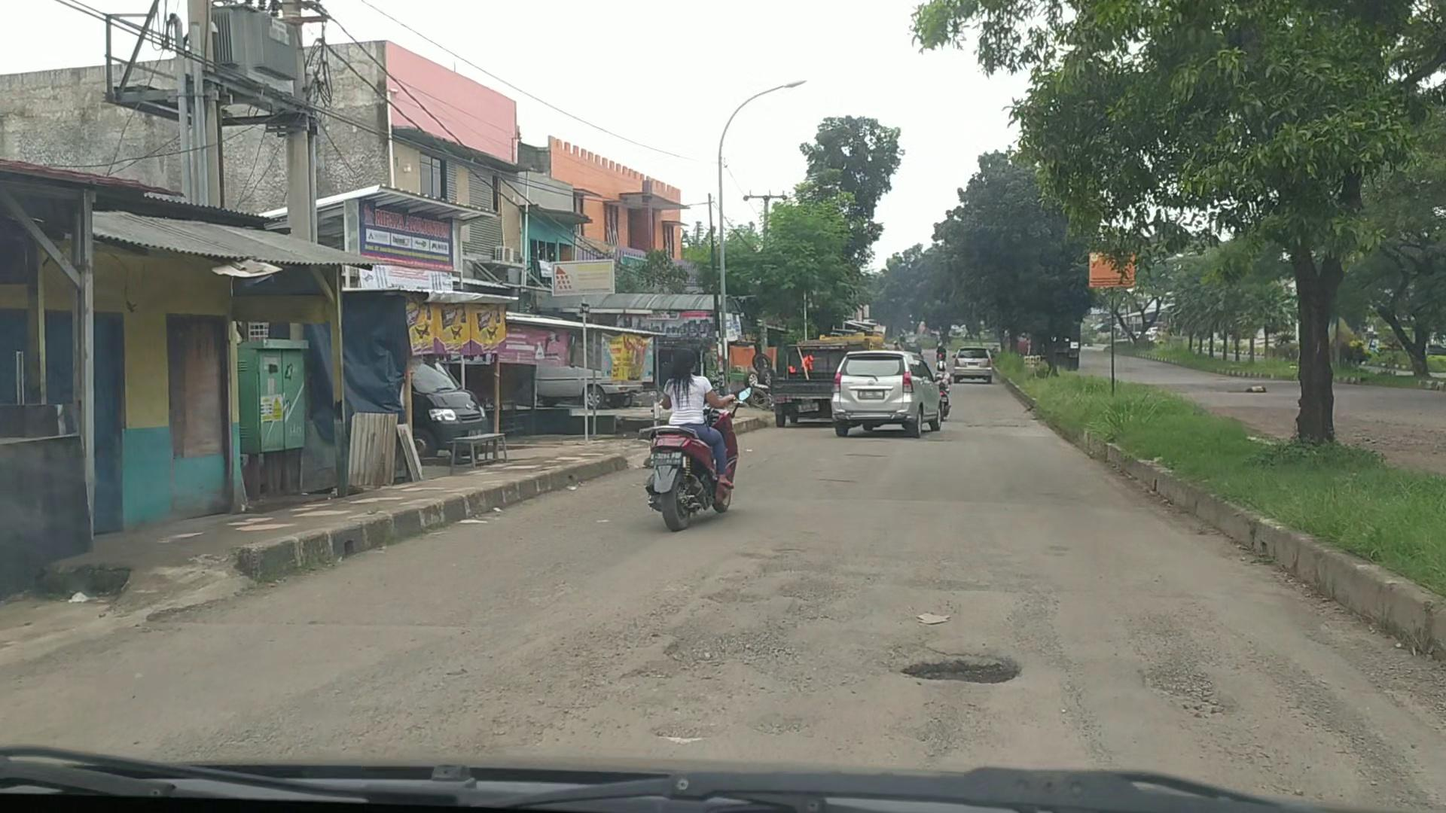pothole: (1137, 659, 1230, 718), (892, 651, 1031, 687)
